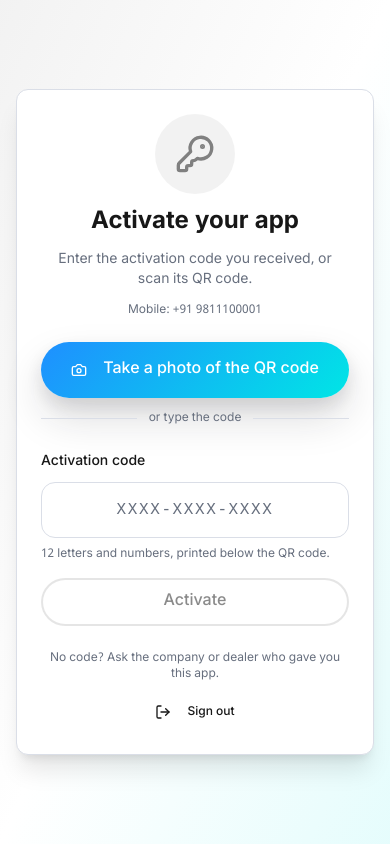
Test: Activate › explains a refusal (activation_expired) and stays on the screen
The width and height of the screenshot is (390, 844).
Expected: the button "Activate" is shown, [41, 578, 349, 626]
In the field labelled "Activation code": x=195, y=510 [41, 482, 349, 538], type "7K2M-9PQR-4T8X"
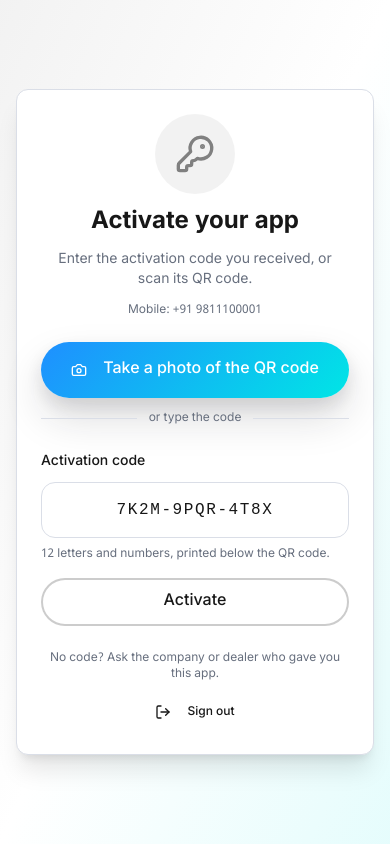
Now the button "Activate" is enabled
Click the button "Activate": x=195, y=602 [41, 578, 349, 626]
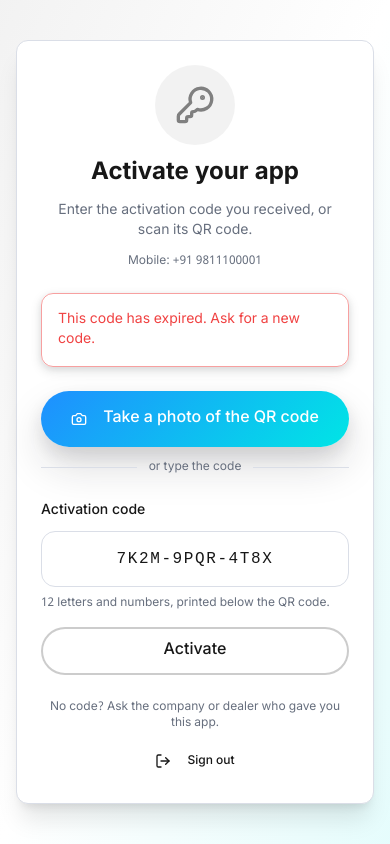
Now the message reads "This code has expired. Ask for a new code.", box [58, 310, 300, 349]
